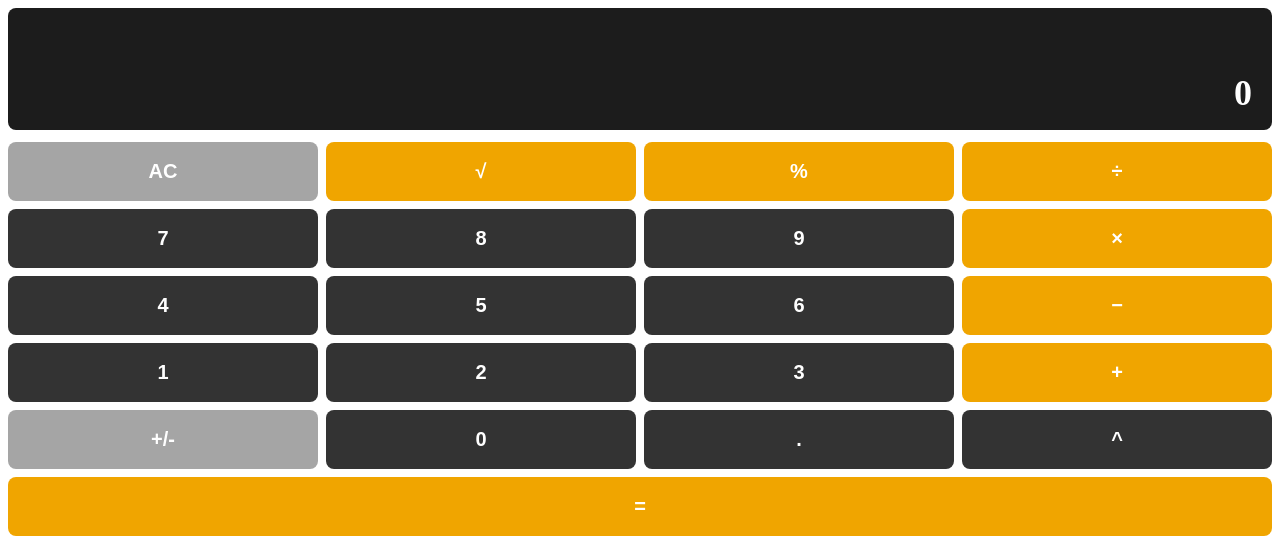
Test: Calculator › chains operations: evaluates pending op before applying next
Click the button "5" at (481, 306), box [326, 276, 636, 335]
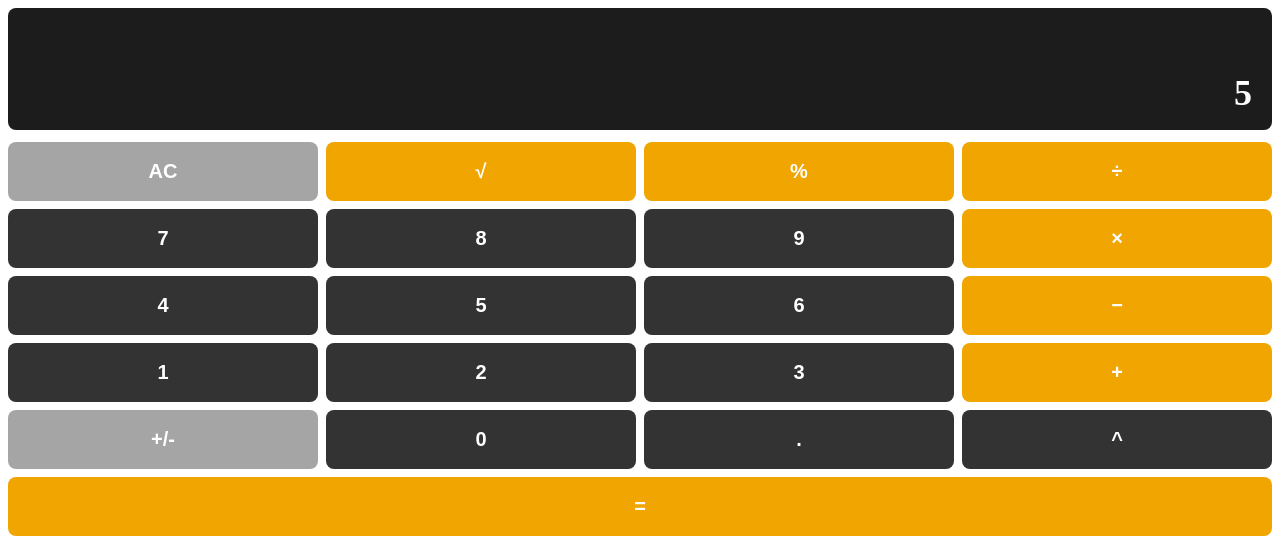
Click the button "×" at (1117, 238), box [962, 209, 1272, 268]
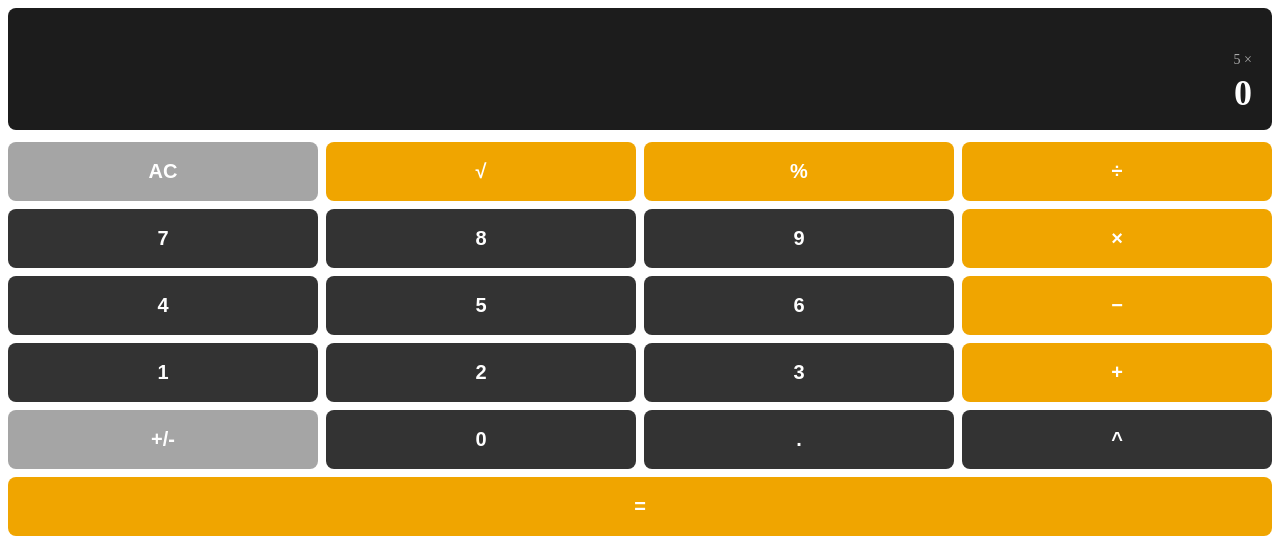
Click the button "6" at (799, 306), box [644, 276, 954, 335]
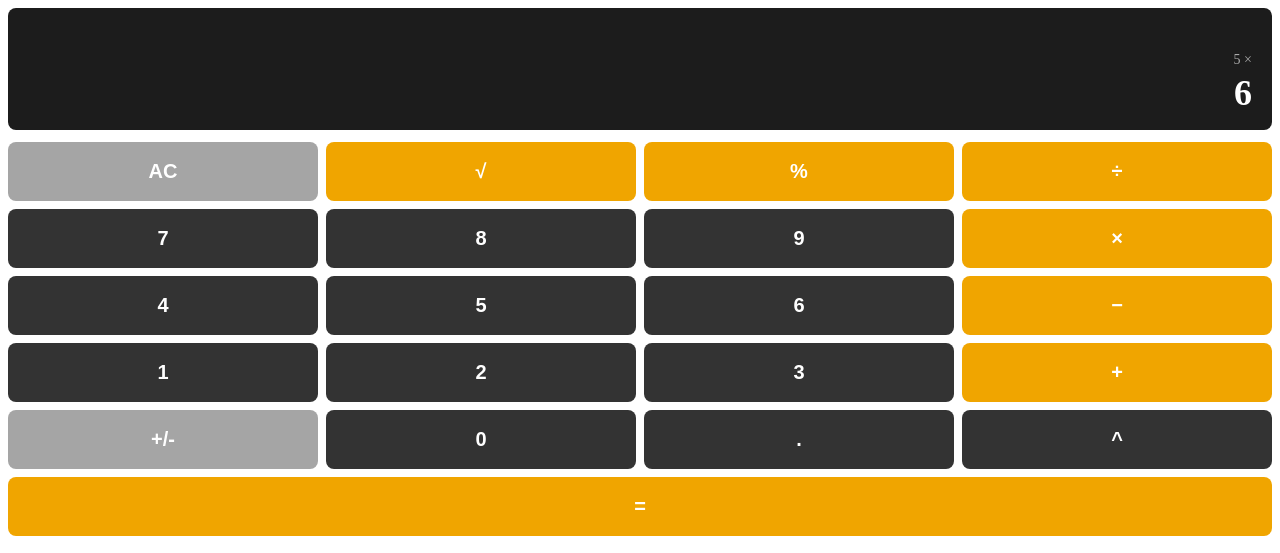
Click the button "×" at (1117, 238), box [962, 209, 1272, 268]
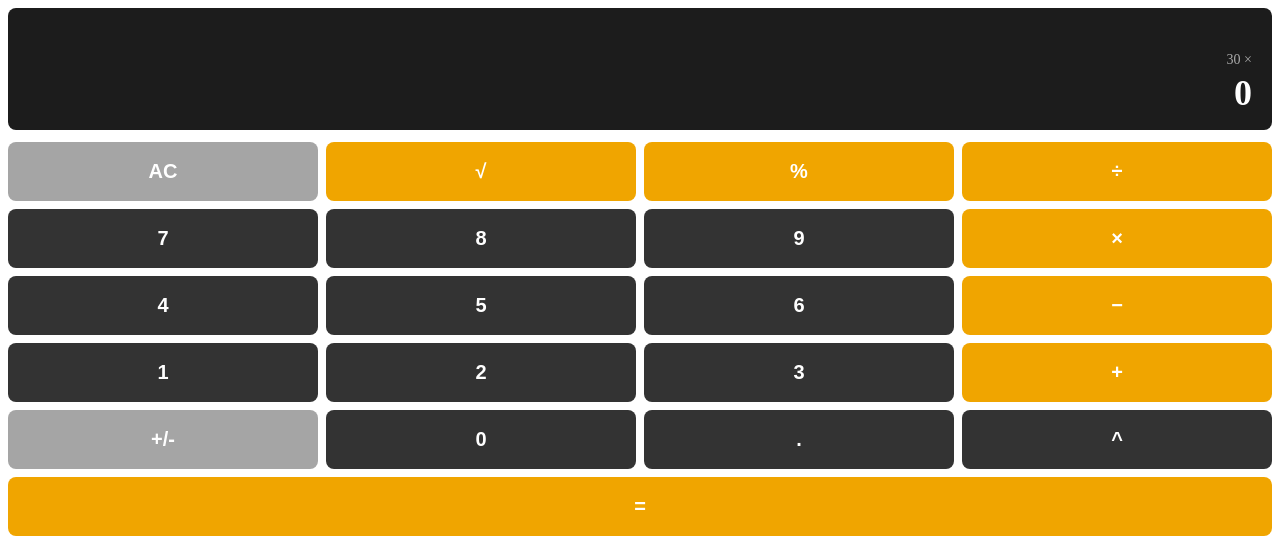
Click the button "3" at (799, 372), box [644, 343, 954, 402]
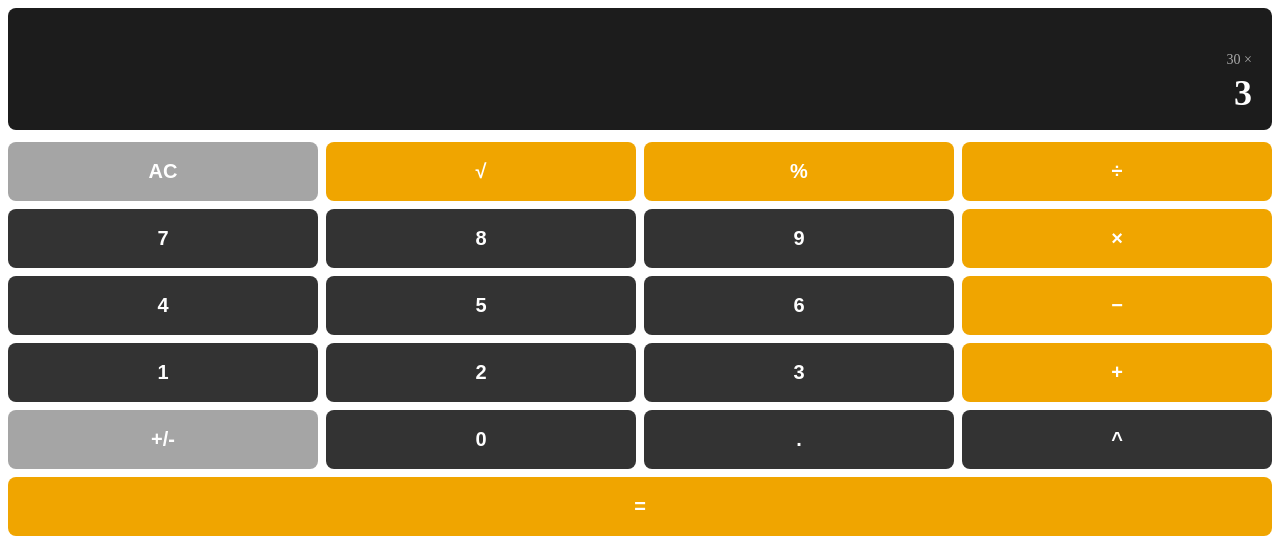
Click the button "=" at (640, 506), box [8, 477, 1272, 536]
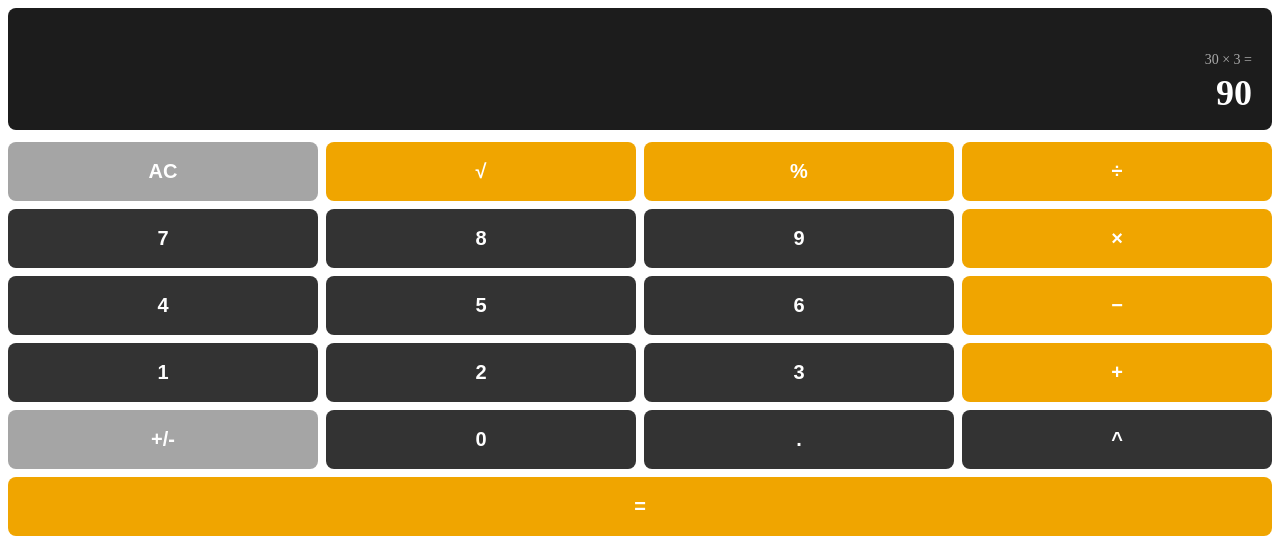
Expected: the text "90" is shown, [1216, 72, 1252, 114]
